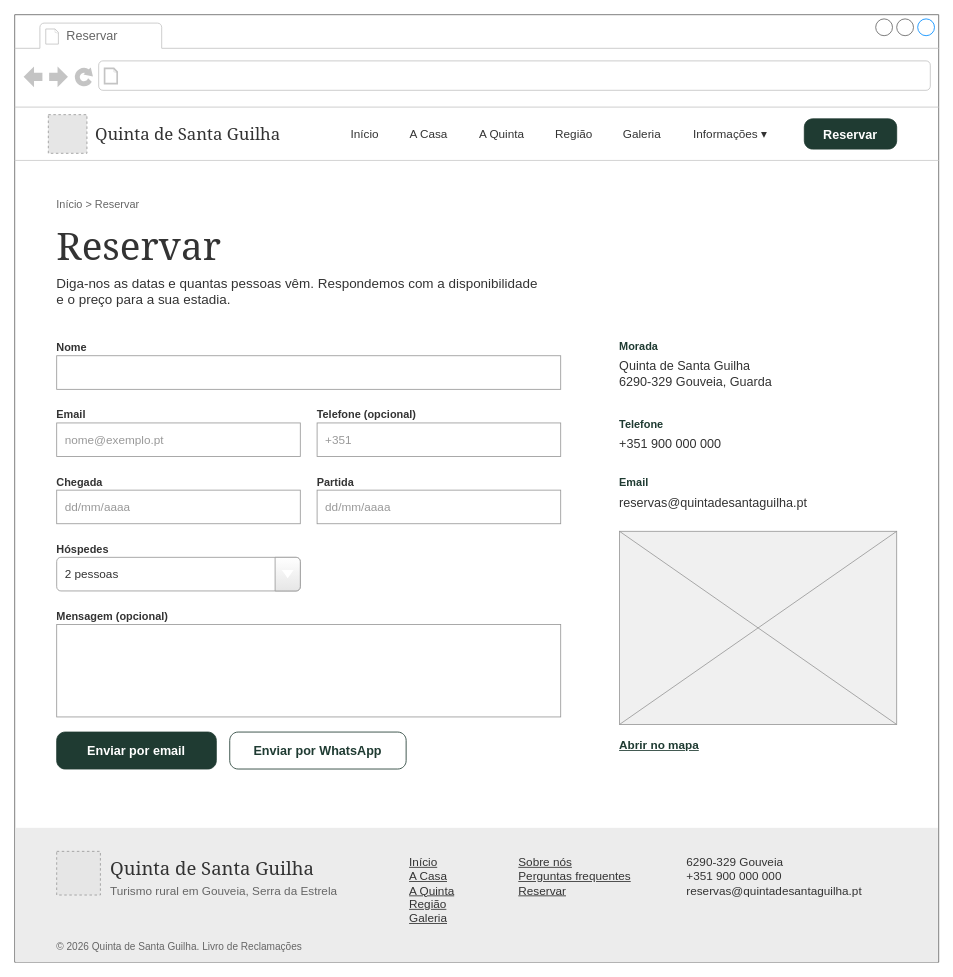
This 953x977 diagram has some shape labels left out. Grey dashed boxes stand in for pictures. Each missing label, with the centre of its shape:
"https://quintadesantaguilha.pt/reservar.html" goes at point 291,75.
"Mapa com a localização da quinta" goes at point 758,627.
"O seu nome" goes at point 308,372.
"Viaja com crianças ou animais? Tem alguma pergunta?" goes at point 308,670.
